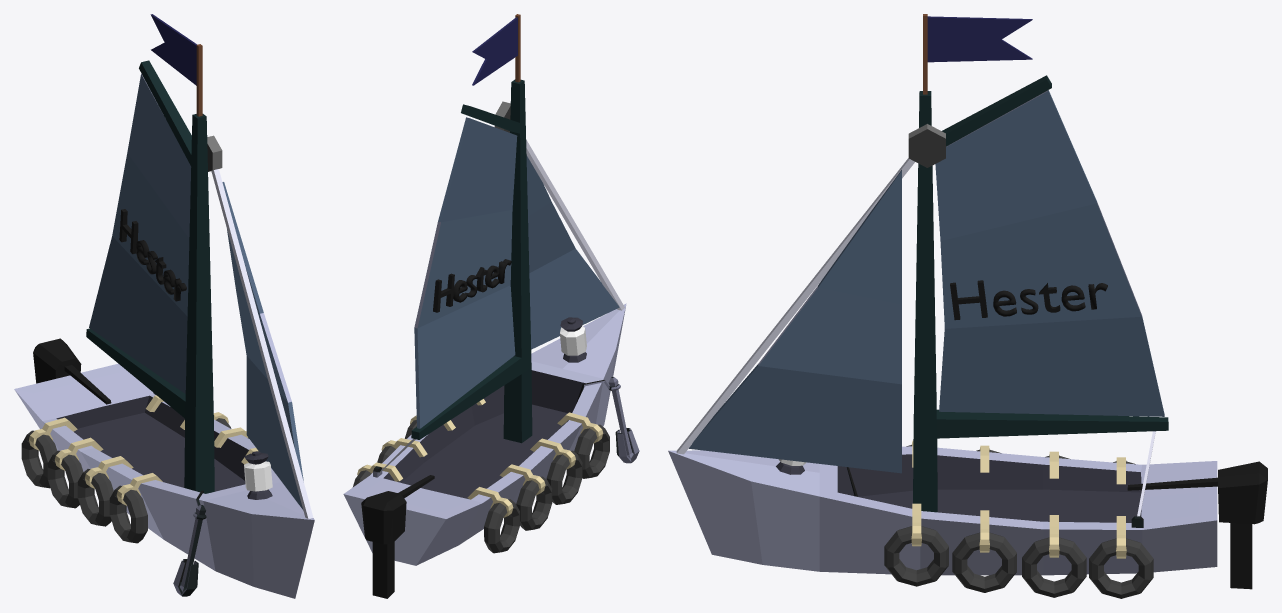
Rendered from M_Sailboat_Ship_Hester.fbx.
The picture shows the model from 3 angles, left to right: view 1: azimuth 30°, elevation 25°; view 2: azimuth 150°, elevation 25°; view 3: azimuth 270°, elevation 25°; orthographic projection. The views are drawn at different scales.
Visible parts, largest first — view 1: M_Sailboat_Ship_Hester; view 2: M_Sailboat_Ship_Hester; view 3: M_Sailboat_Ship_Hester.
Boxes of the visible parts, x1,y1,x2,y2 form: M_Sailboat_Ship_Hester: (14, 14, 314, 598); M_Sailboat_Ship_Hester: (343, 14, 639, 598); M_Sailboat_Ship_Hester: (668, 14, 1267, 598).
Bounding box in the file's own units: 280 × 795 × 758.
